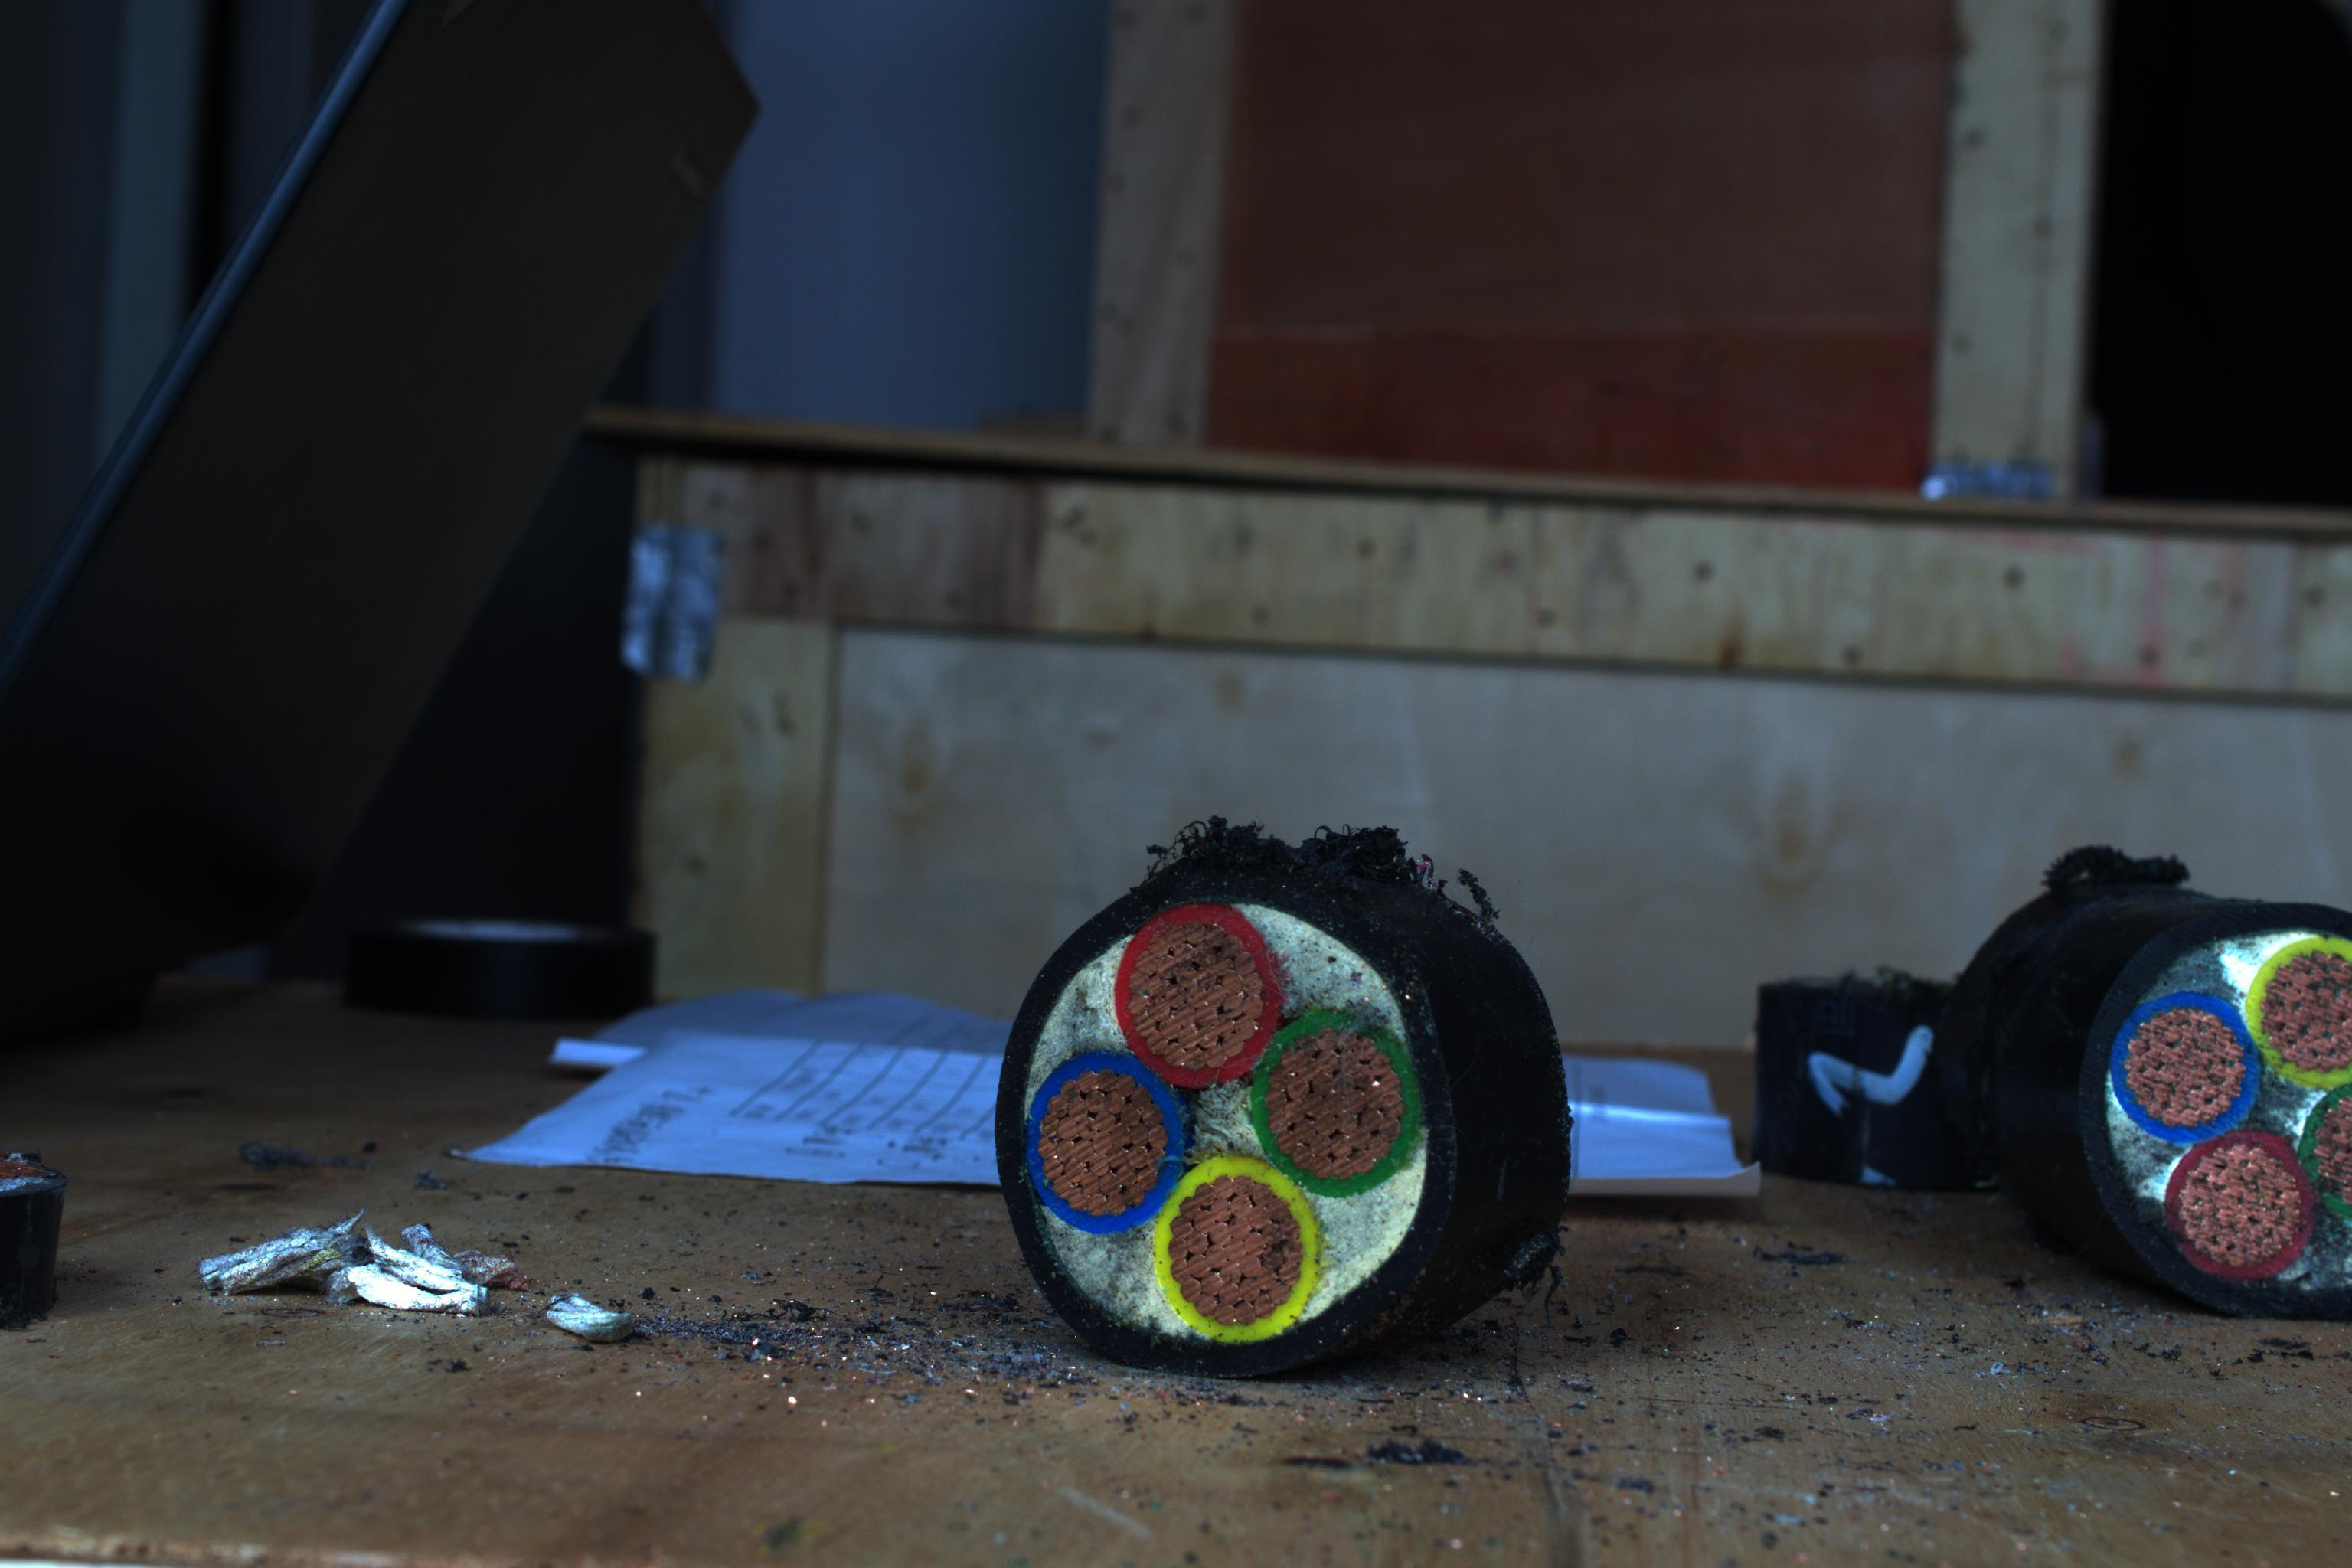YJV_0.6_1kV_4x185: (1001, 873, 1459, 1356)
